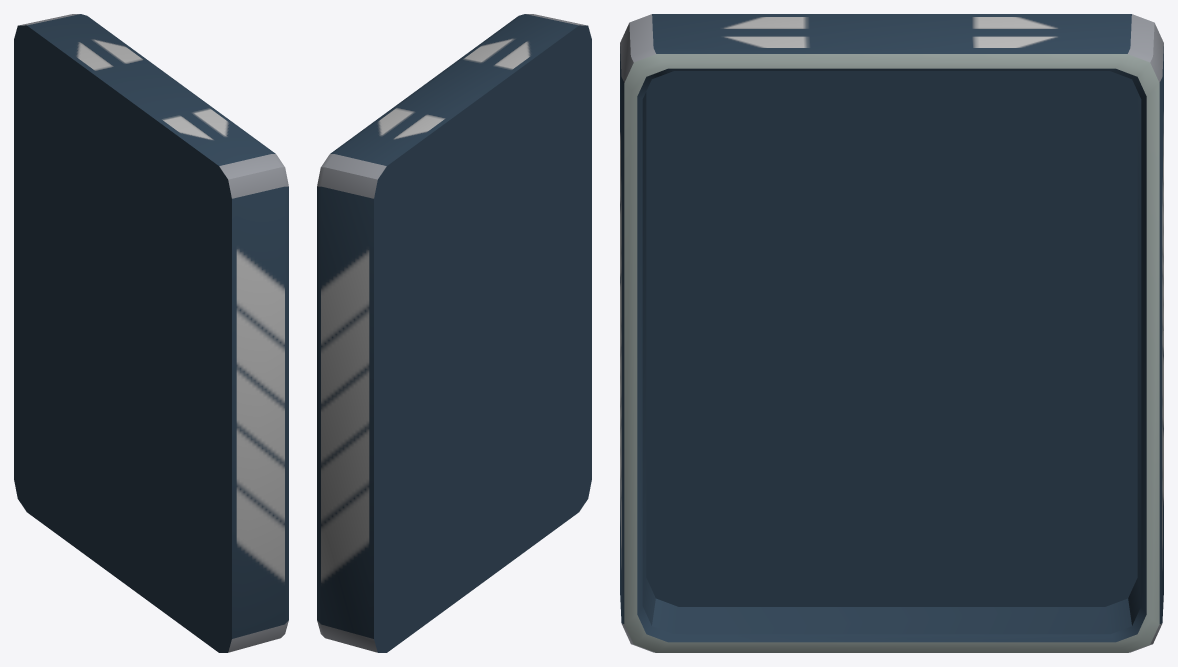
File: support_puzzle.fbx
The picture shows the model from 3 angles, left to right: view 1: azimuth 30°, elevation 25°; view 2: azimuth 150°, elevation 25°; view 3: azimuth 270°, elevation 25°; orthographic projection. The views are drawn at different scales.
Parts seen in each view (by area): view 1: Support_puzzle; view 2: Support_puzzle; view 3: Support_puzzle.
Boxes of the visible parts, left/top/right/bottom form: Support_puzzle: left=14, top=14, right=288, bottom=652; Support_puzzle: left=317, top=14, right=591, bottom=652; Support_puzzle: left=620, top=14, right=1163, bottom=652.
Bounding box in the file's own units: 18.65 × 140 × 114.
Materials: 1 (1 with a texture image).
